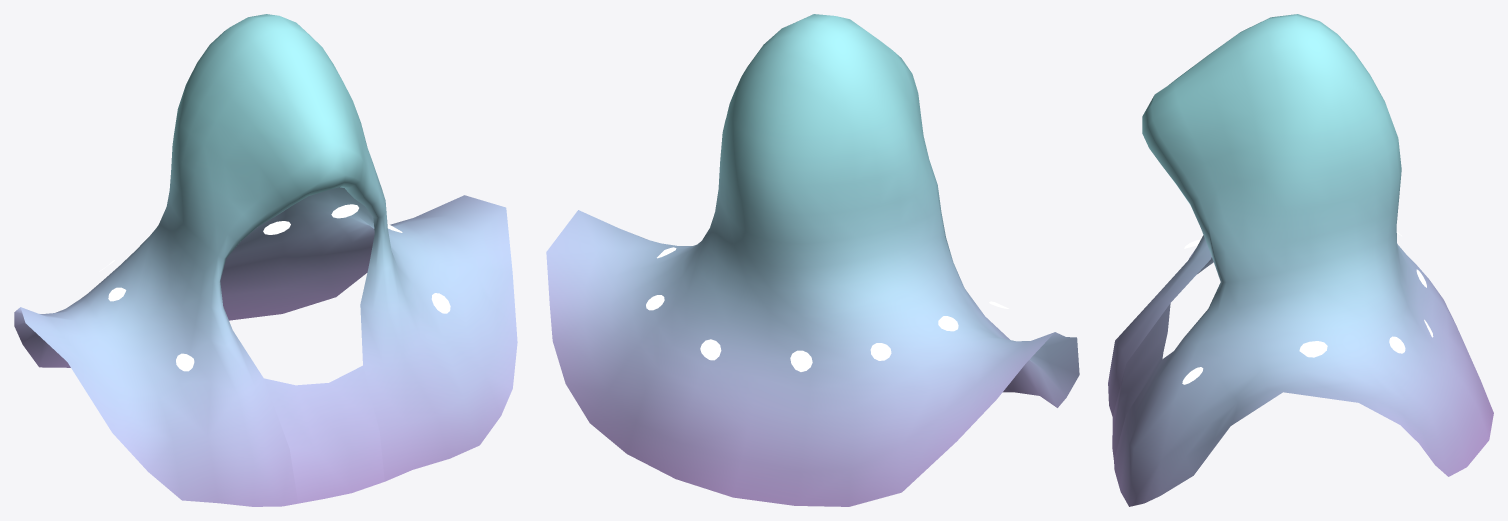
Rendered from Reaper-Amnesia-Head.glb.
3 views of the same model, side by side, from view 1: azimuth 30°, elevation 25°; view 2: azimuth 150°, elevation 25°; view 3: azimuth 270°, elevation 25° (orthographic). The views are drawn at different scales.
Parts seen in each view (by area): view 1: Reaper-Amnesia-Head; view 2: Reaper-Amnesia-Head; view 3: Reaper-Amnesia-Head.
Part boxes in pixels (x1,y1,x2,y2): Reaper-Amnesia-Head: (14,14,517,506); Reaper-Amnesia-Head: (546,14,1079,506); Reaper-Amnesia-Head: (1108,14,1493,506).
Size of what is drawn, in the model's own units: 0.8217 by 0.6787 by 0.5547.
Materials: 1 (1 with a texture image).
